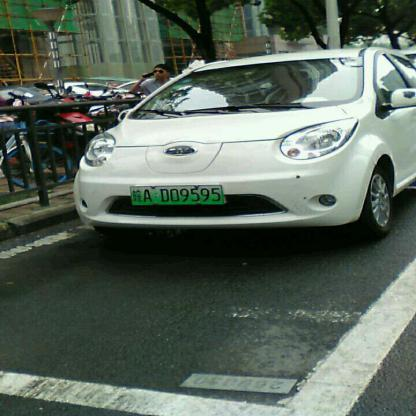lp: (130, 185, 224, 204)
